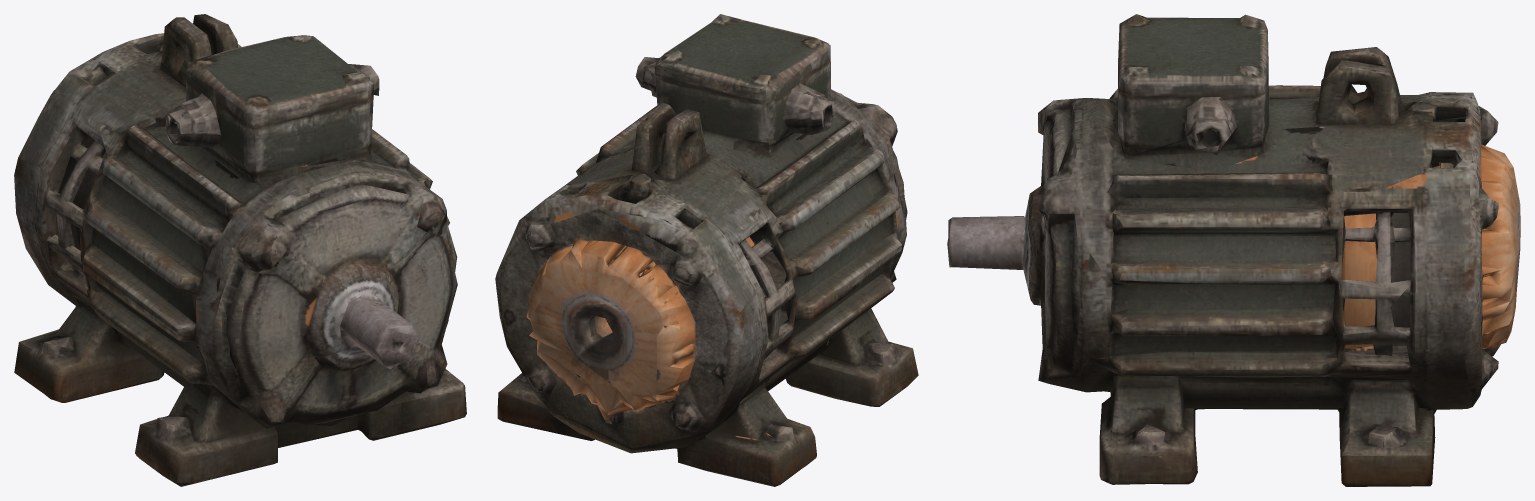
The model's file is salvaged_motor.glb.
3 renders of one model, left to right at view 1: azimuth 30°, elevation 25°; view 2: azimuth 150°, elevation 25°; view 3: azimuth 270°, elevation 25°, orthographic. The views are drawn at different scales.
Size of the model in its own units: 0.27 by 0.3 by 0.42.
Materials: 1 (1 with a texture image).
